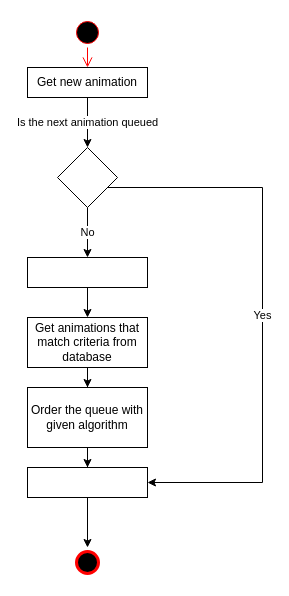
Image size: 289x596. Some labels were removed from this diagram. The box of each missing label's shape, as (x1, y1, x2, y2) in pixels:
Build up a new queue: (26, 256, 148, 288)
Run the next animation: (26, 466, 148, 498)
